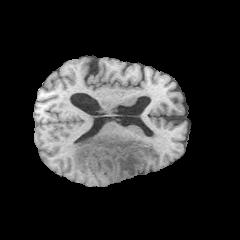glioma: (70, 130, 141, 180)
